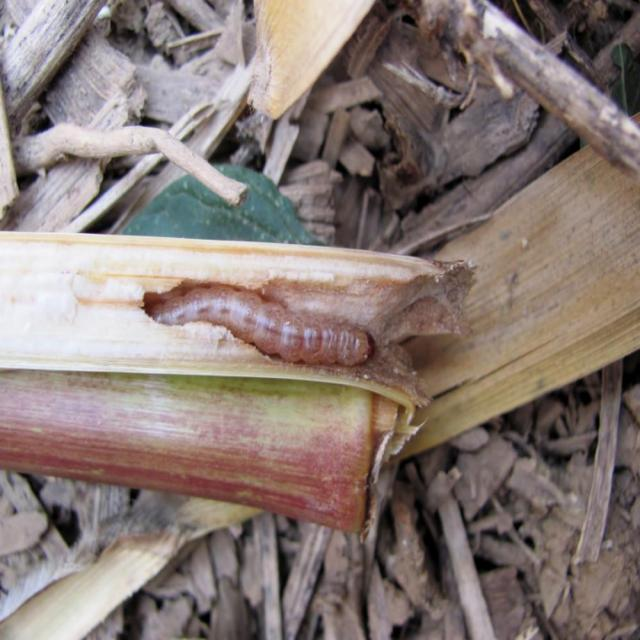cornborer-Larva-: (143, 278, 381, 374)
